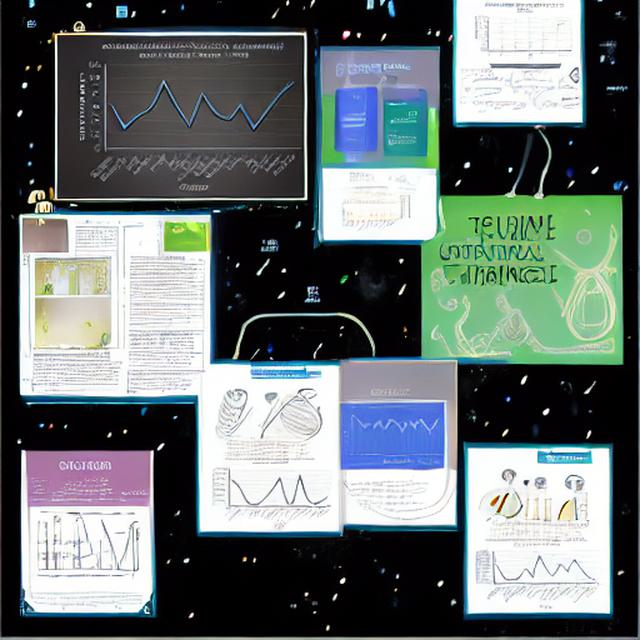Graph: (74, 38, 303, 198), (472, 535, 602, 610), (209, 455, 333, 528), (472, 0, 577, 63), (342, 403, 444, 466), (339, 200, 395, 236), (505, 69, 557, 99)
